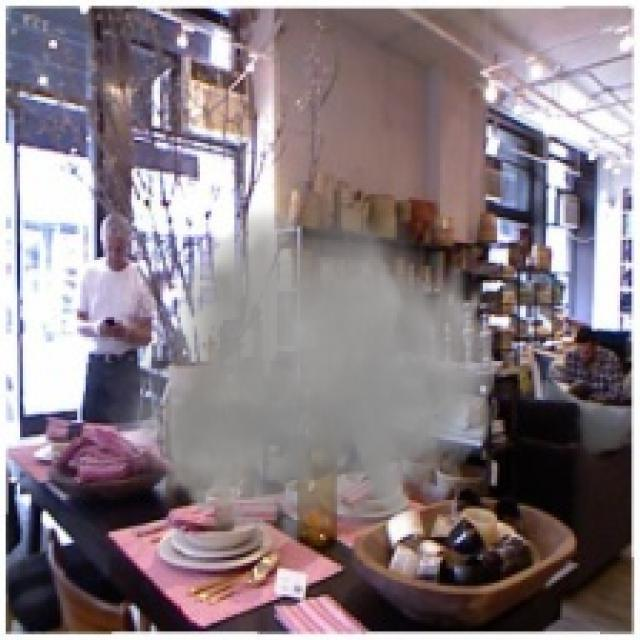Smoke: (97, 160, 506, 569)
